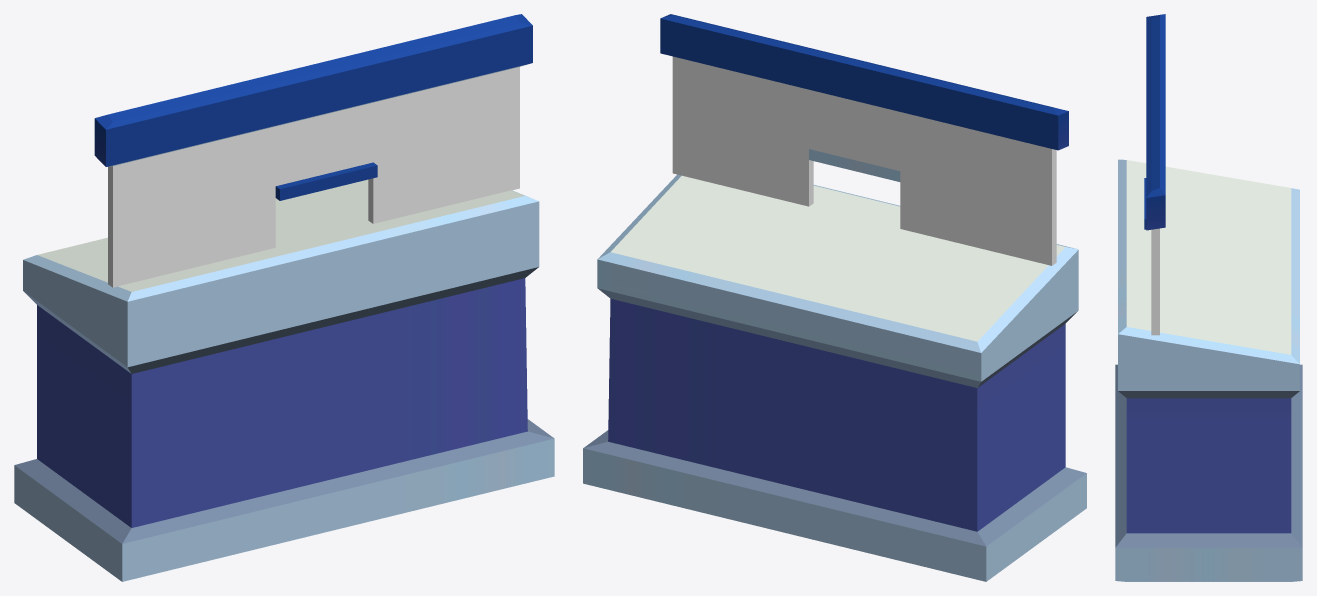
The model's file is SM_Passport_Control.fbx.
3 views of the same model, side by side, from view 1: azimuth 30°, elevation 25°; view 2: azimuth 150°, elevation 25°; view 3: azimuth 270°, elevation 25° (orthographic). The views are drawn at different scales.
Visible parts, largest first — view 1: SM_Passport_Control; view 2: SM_Passport_Control; view 3: SM_Passport_Control.
Boxes of the visible parts, x1,y1,x2,y2 form: SM_Passport_Control: (14,14,554,581); SM_Passport_Control: (583,14,1086,581); SM_Passport_Control: (1115,14,1302,581).
Bounding box in the file's own units: 221 × 220 × 95.41.
